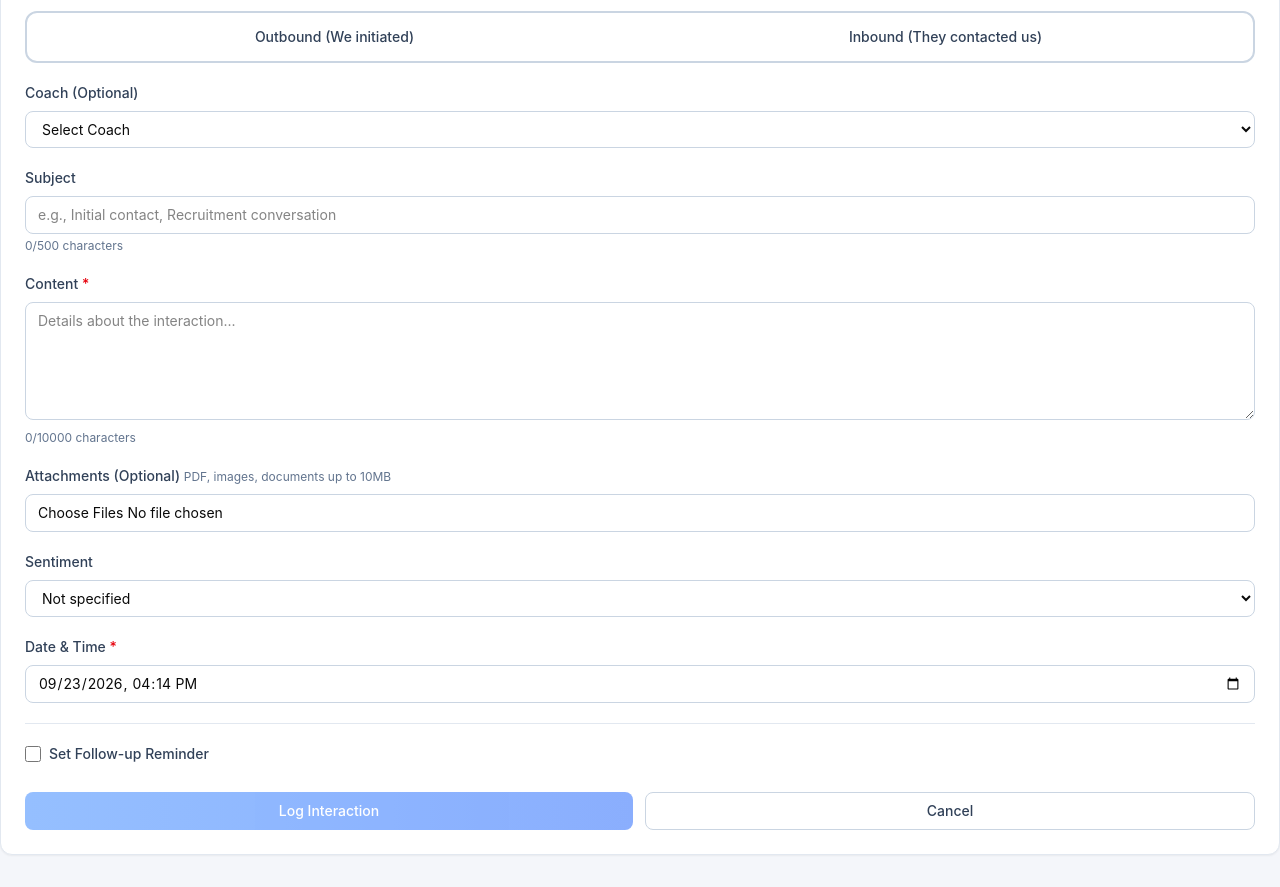
Test: InteractionAddForm Component › Reminder Toggle › should show reminder fields when enabled
(page scrolled)
# Enable reminder
Step 1. Click the checkbox with id "reminder-enabled" → (33, 754), box x1=25 y1=746 x2=41 y2=762
(page scrolled)
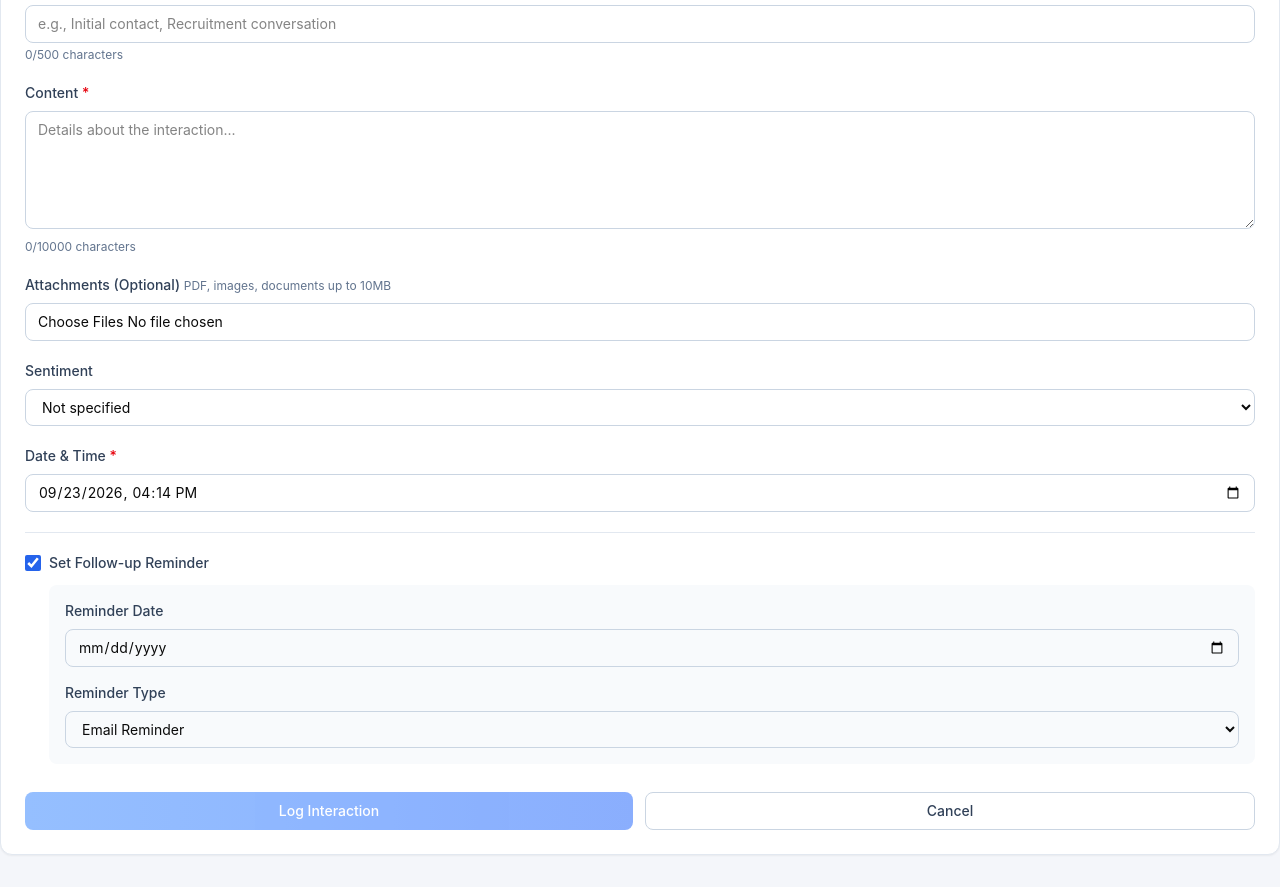
Expected: the date field with id "reminder-date" is shown, x1=65 y1=629 x2=1239 y2=667
Expected: the dropdown with id "reminder-type" is shown, x1=65 y1=711 x2=1239 y2=748
